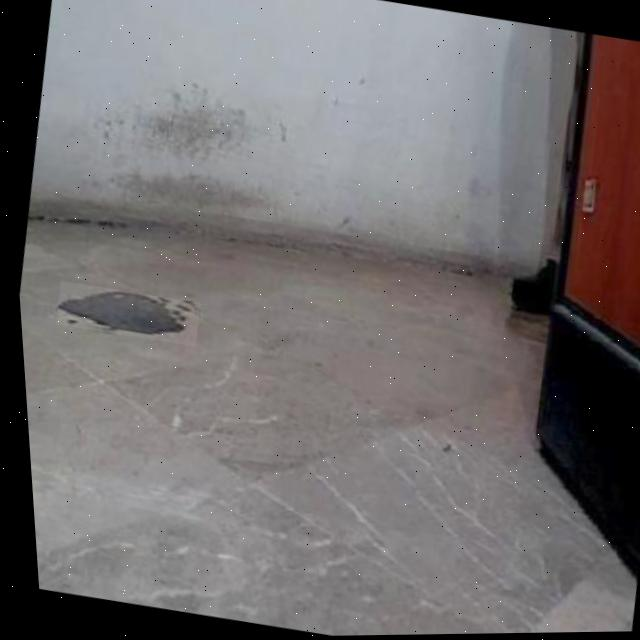spillage: (53, 293, 193, 338)
